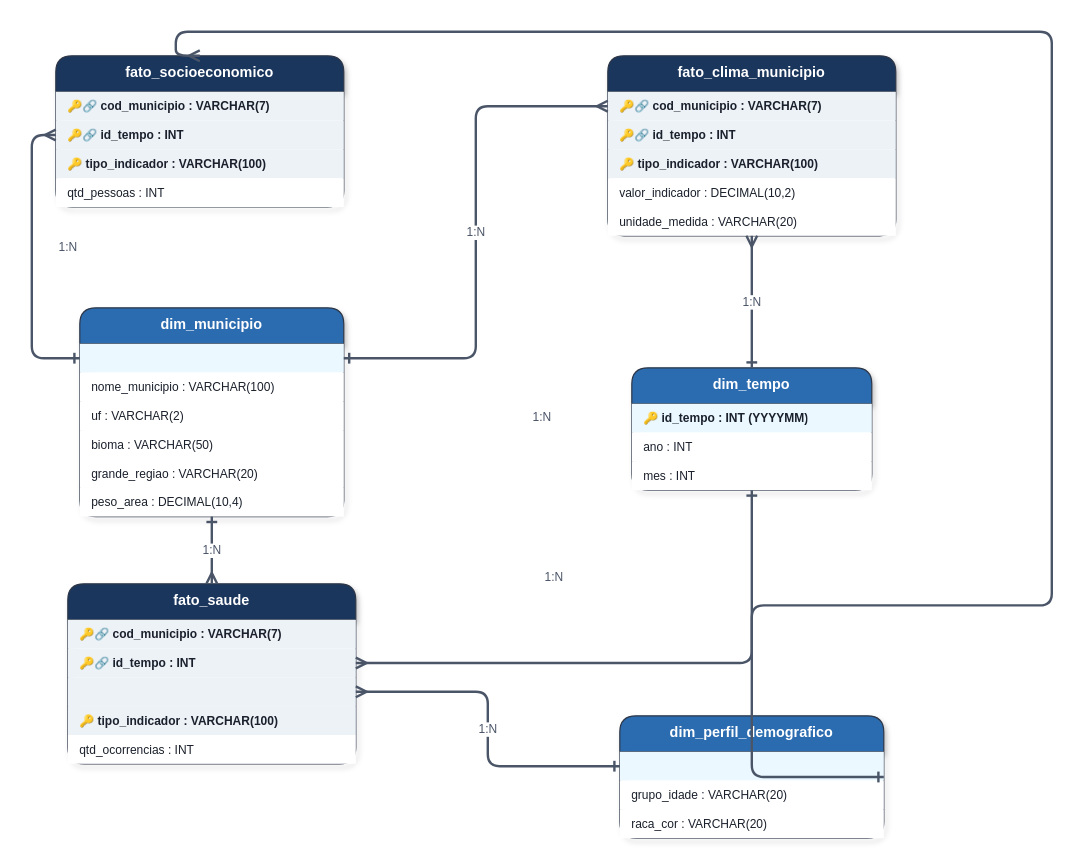
This 1084x868 diagram has some shape labels left out. The shapes that lost their labels are listed below. From the top down, each one's centre as x and y in pixels, then its label:
At point (211, 357): "🔑 cod_municipio : VARCHAR(7)".
At point (211, 691): "🔑🔗 id_demografia : INT".
At point (751, 765): "🔑 id_demografia : INT".
